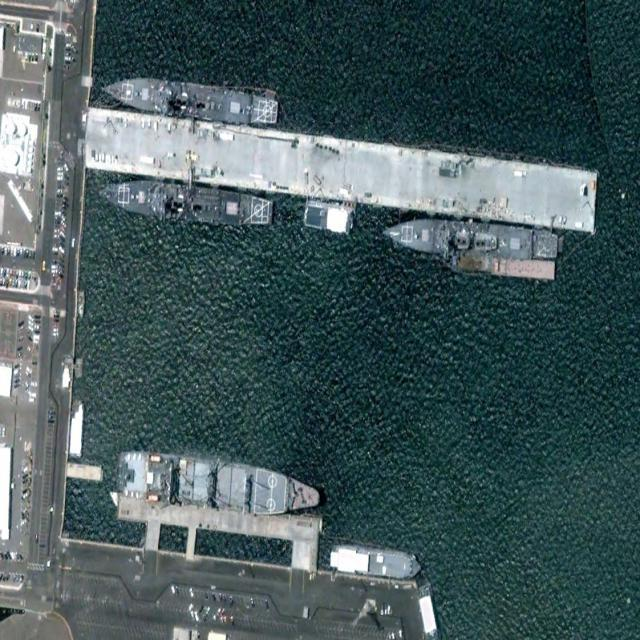Destroyer: (98, 70, 279, 128), (97, 176, 274, 228), (382, 217, 557, 260)
Other Ship: (116, 446, 322, 525), (329, 542, 423, 581)
